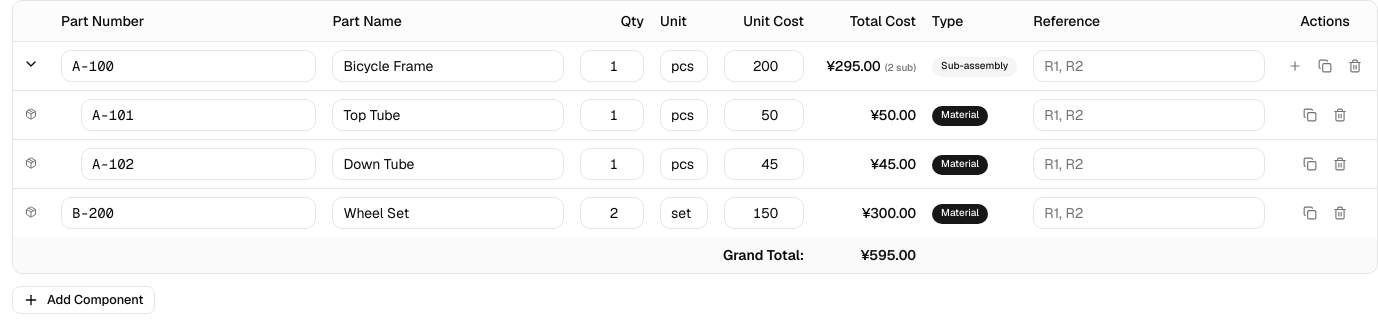
Test case: BOMTreeEditor › expands/collapses children when toggle is clicked
This screenshot has width=1378, height=331.
Check: the field showing "A-101" in the row of "¥50.00" is shown, box [81,98,316,130]
Check: the field showing "A-102" in the row of "¥45.00" is shown, box [81,148,316,180]
Collapse the first subassembly.
Click the button named "Collapse". click: (31, 64)
box: [21,54,41,74]
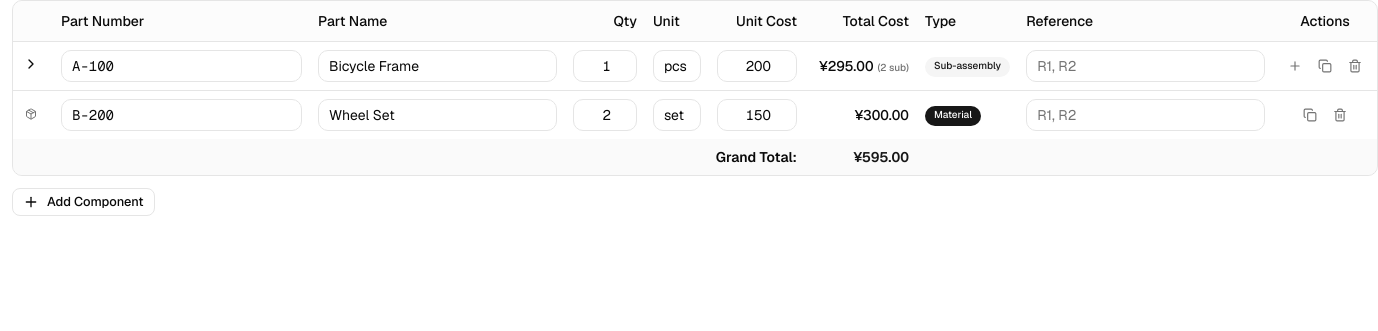
Check: the field showing "A-101" is not shown
Check: the field showing "A-102" is not shown
Re-expand it.
Click the button named "Expand". click: (31, 64)
box: [21,54,41,74]
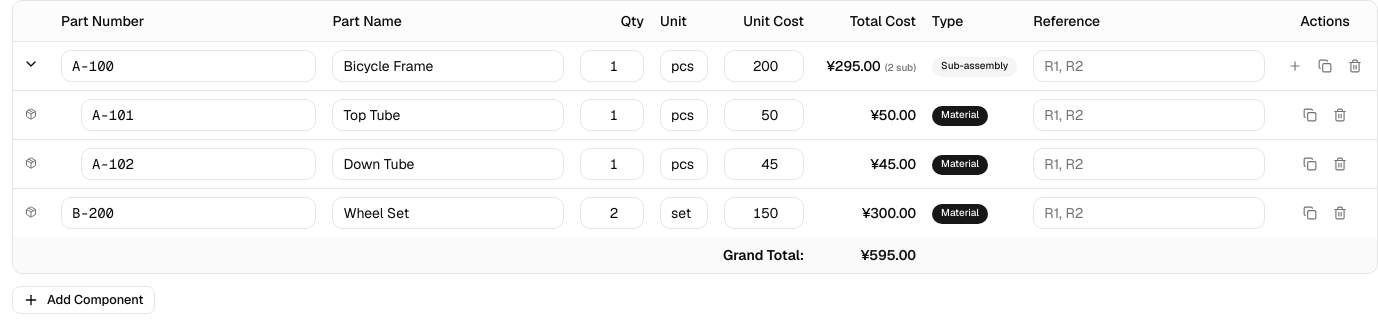
Check: the field showing "A-101" in the row of "¥50.00" is shown, box [81,98,316,130]
Check: the field showing "A-102" in the row of "¥45.00" is shown, box [81,148,316,180]
